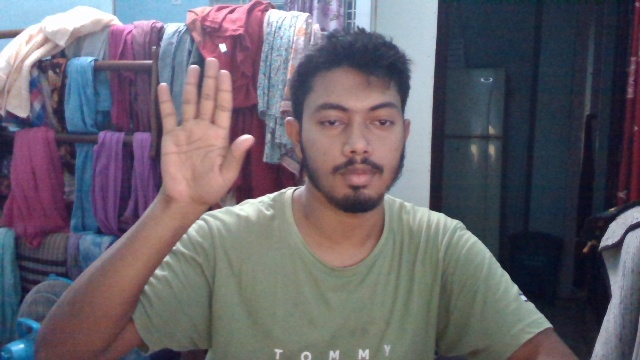hello: (138, 56, 258, 208)
